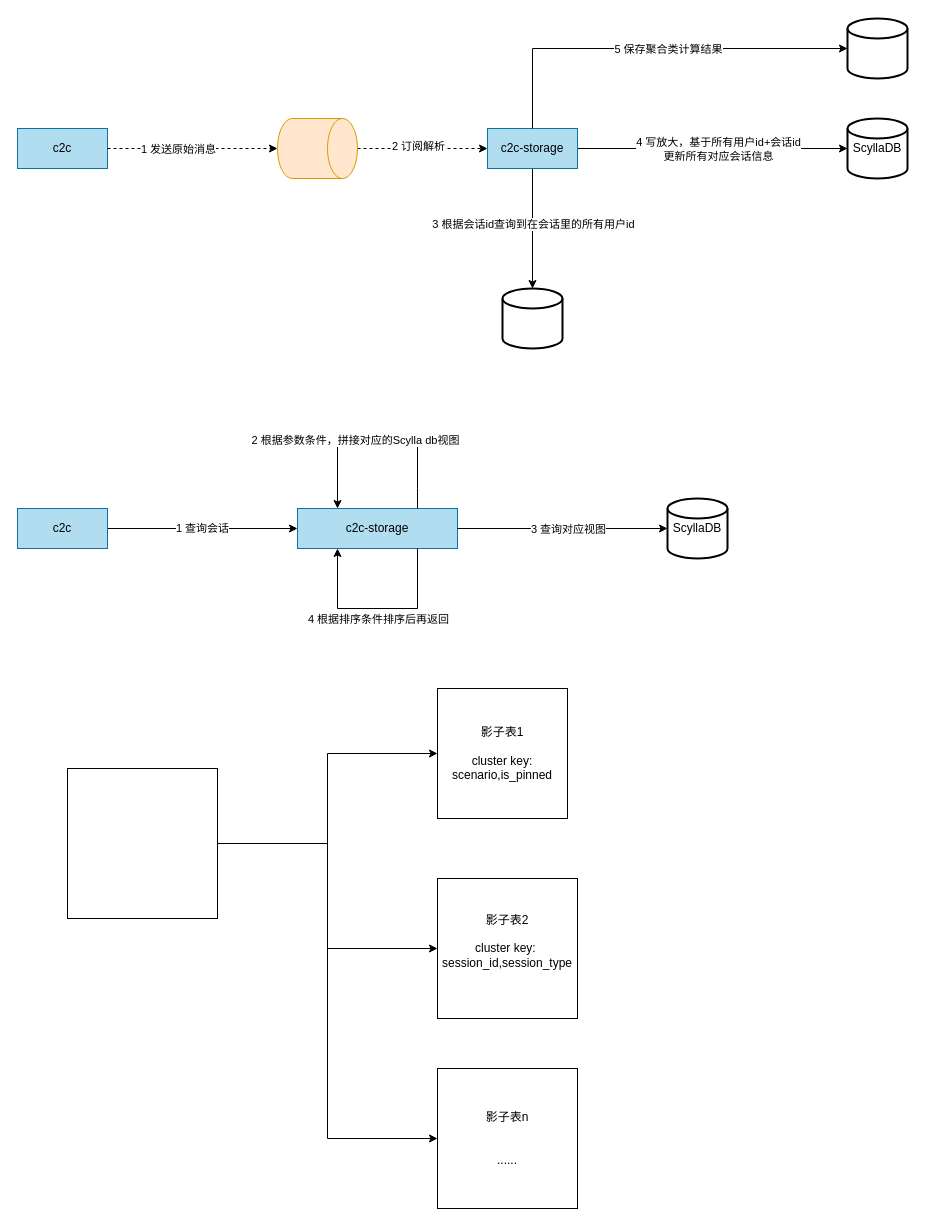
Image size: 926x1226. Some labels were removed from this diagram. Each missing label, with the box of its shape:
c2c Mysql: (501, 287, 563, 349)
kafka: (276, 118, 358, 178)
redis: (846, 17, 908, 79)
主表 primay key: user_id: (66, 768, 218, 918)
